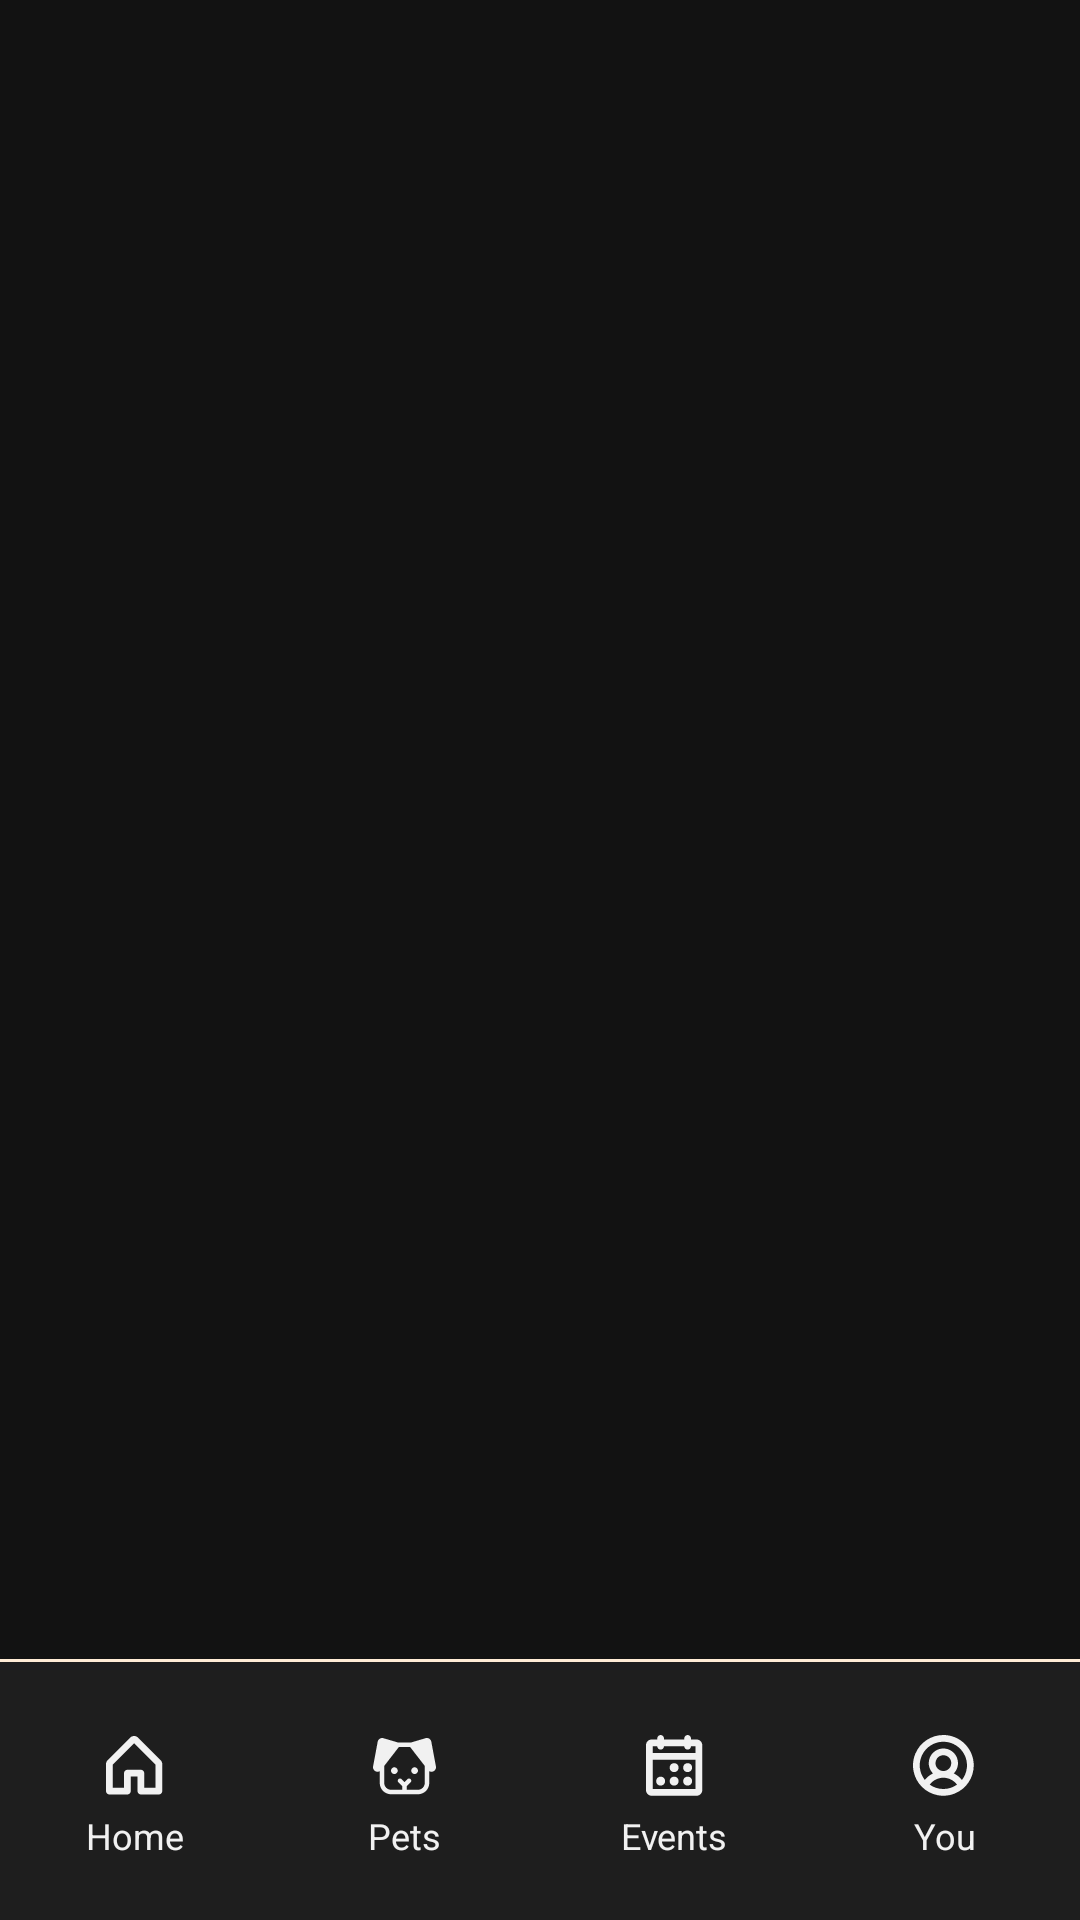

Where icons sit on this 1080px×1920px app screen, as (x1, y1, x2, y2):
user: (913, 1735, 974, 1796)
